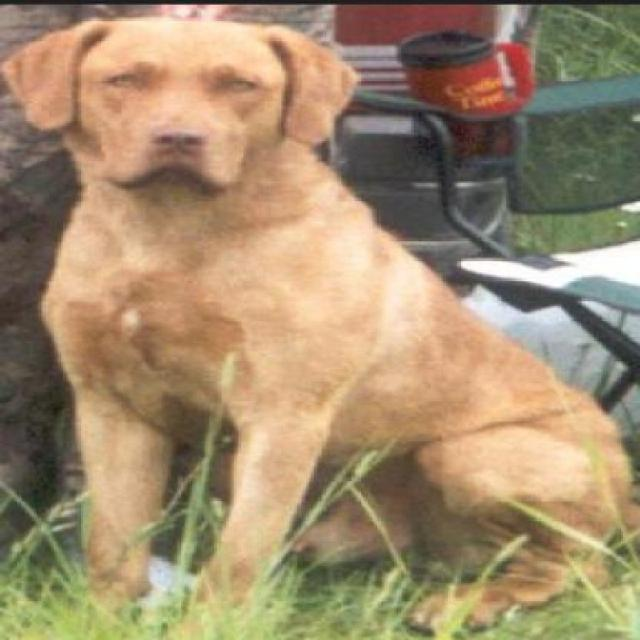Dog: (1, 14, 638, 626)
